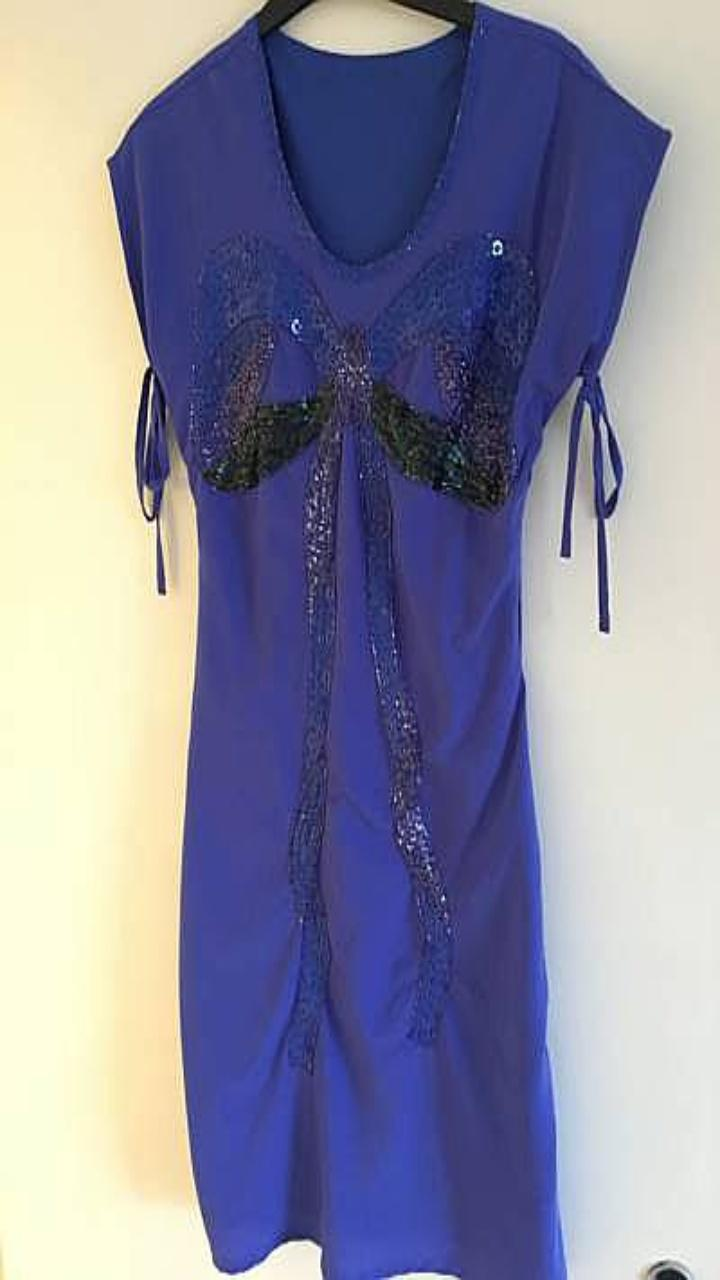Dresses: (108, 4, 669, 1279)
